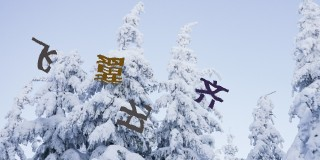比: (118, 99, 152, 135)
翼: (96, 53, 124, 87)
飞: (30, 37, 58, 72)
齐: (195, 76, 228, 110)
